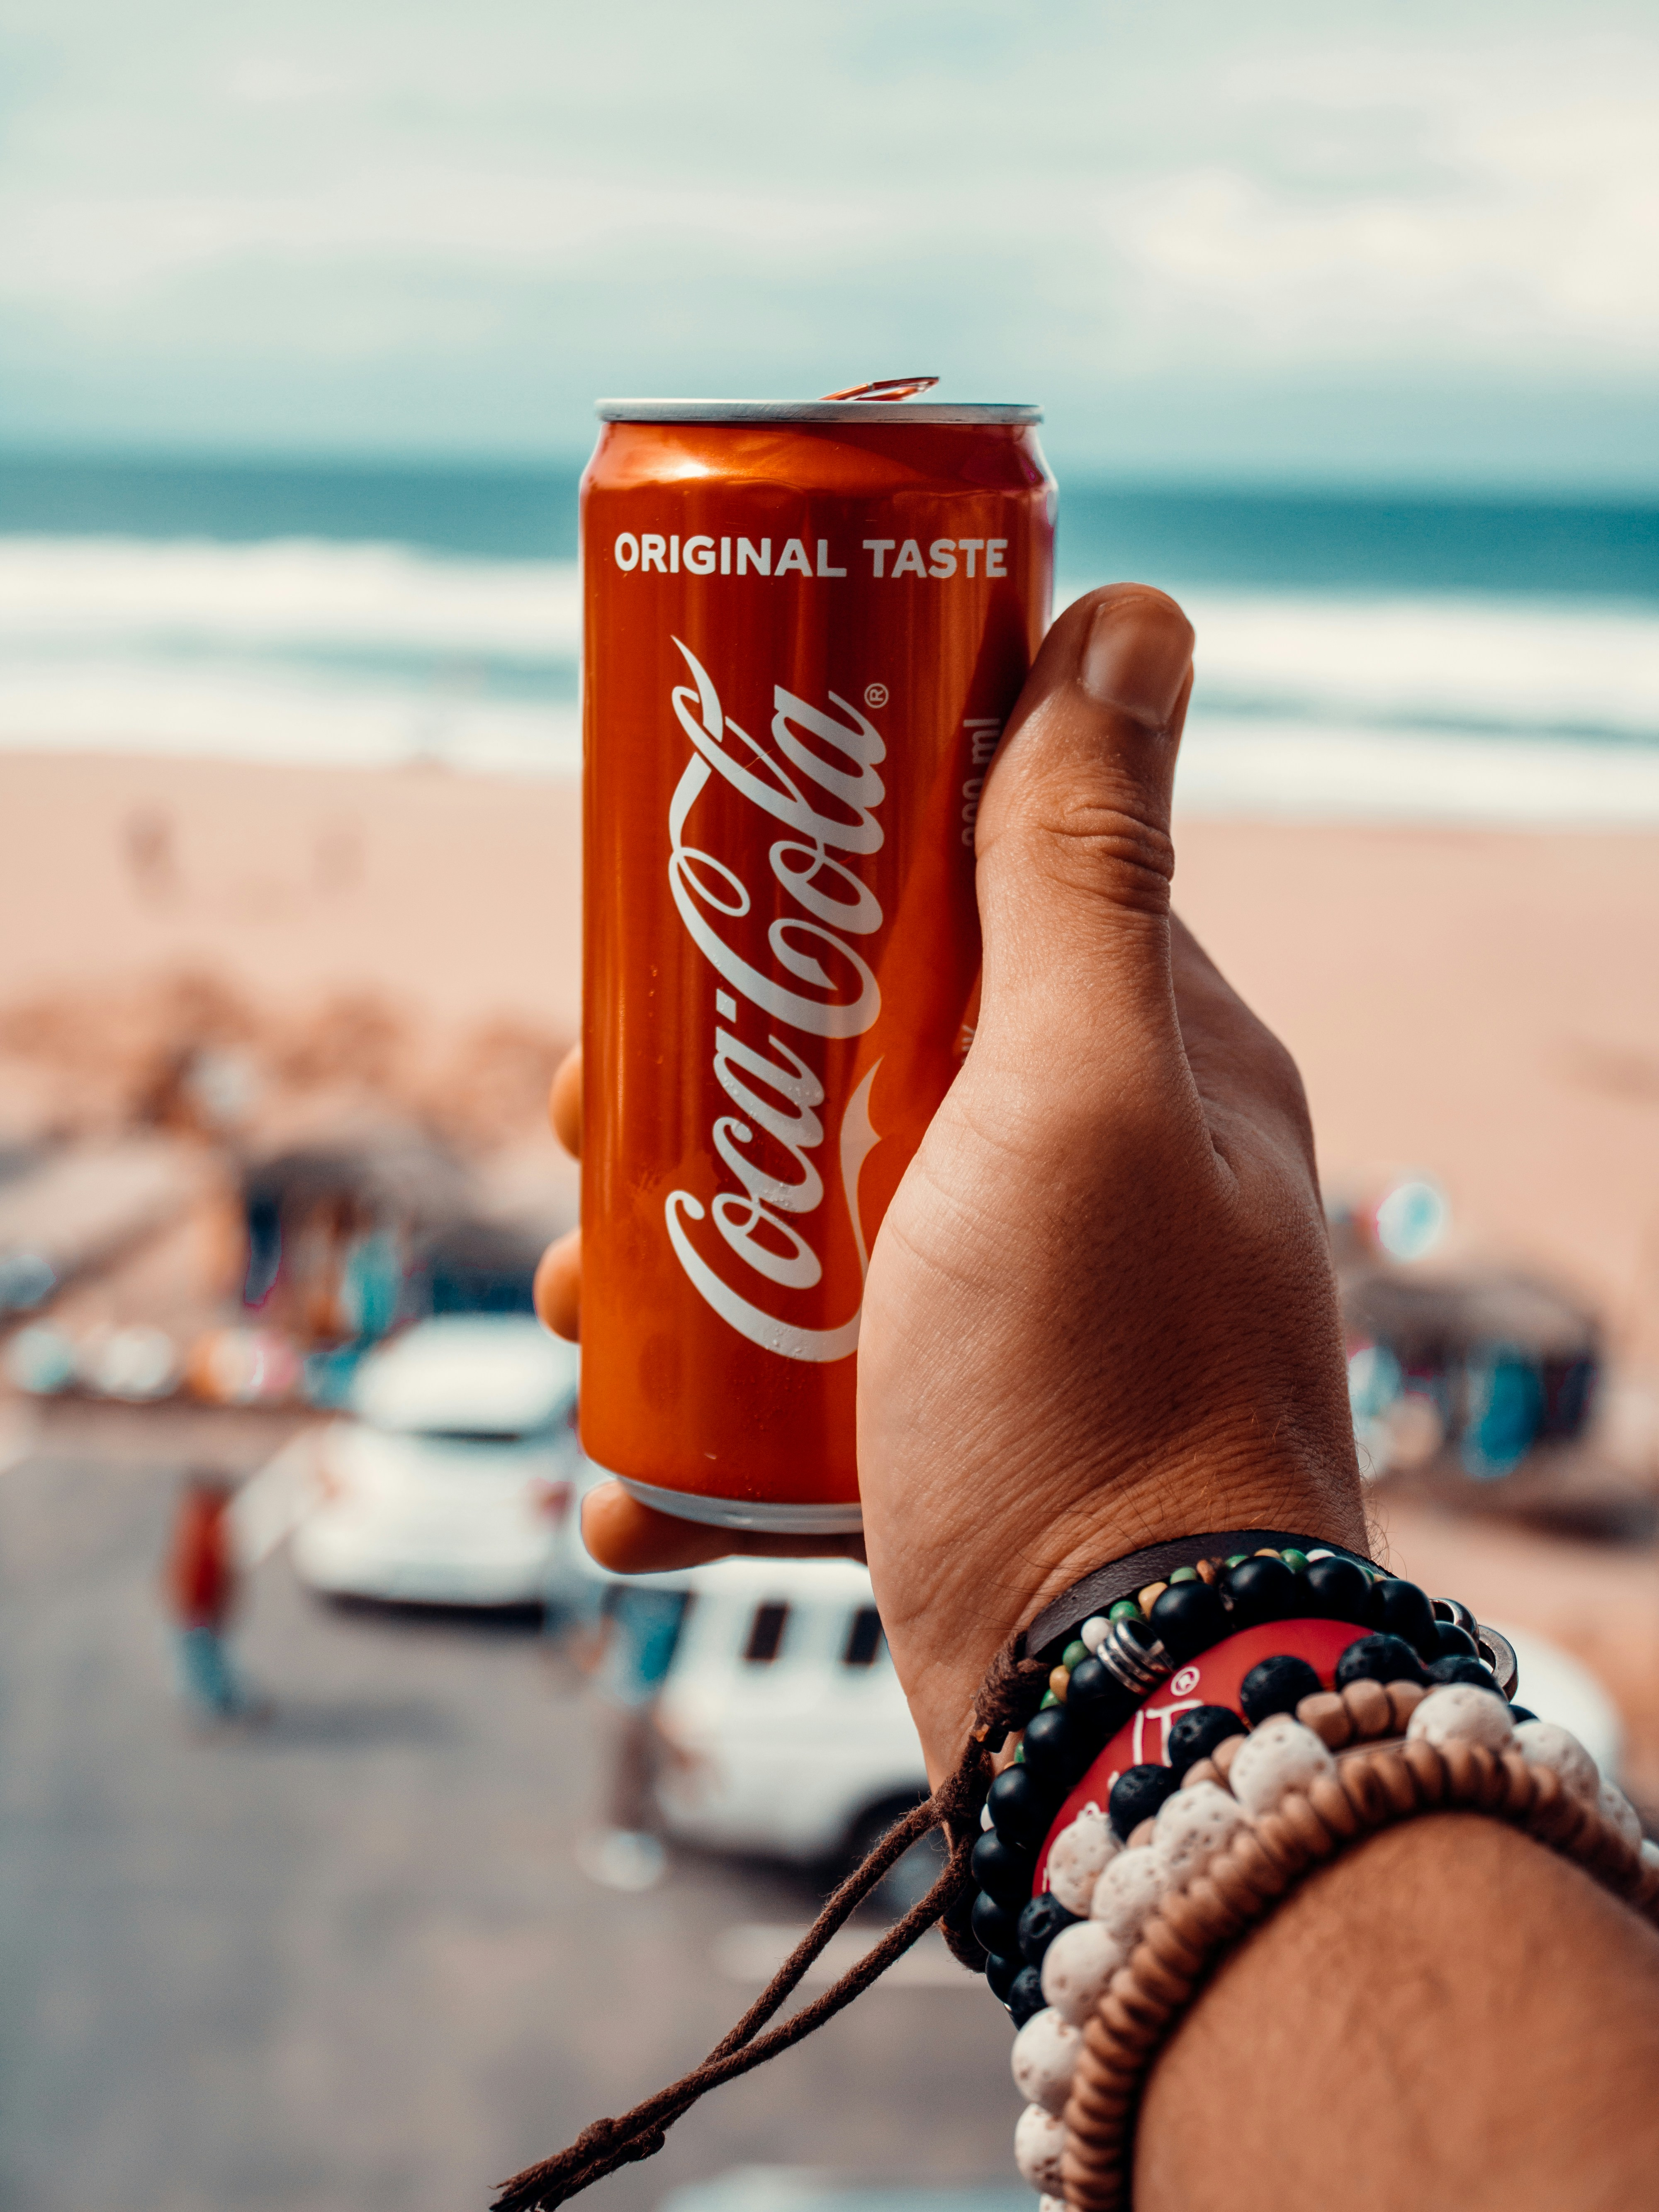COCOCOLA: (573, 423, 1052, 1503)
